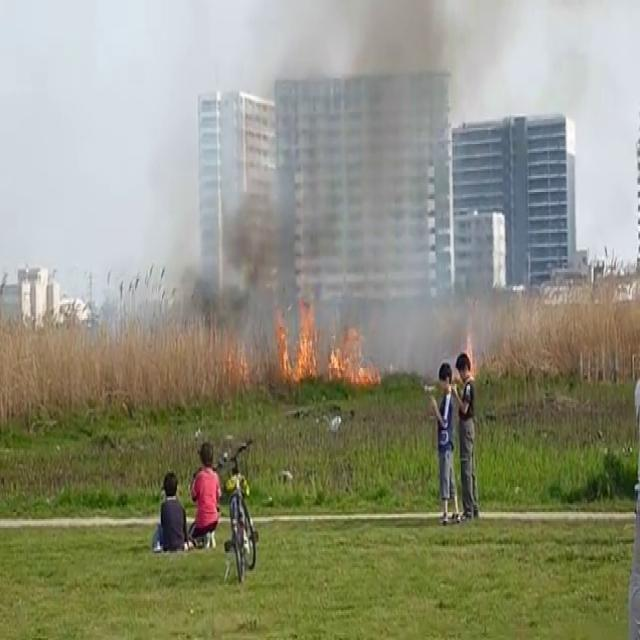Fire: (272, 284, 326, 379), (327, 320, 380, 393)
Smoke: (106, 0, 472, 375)
